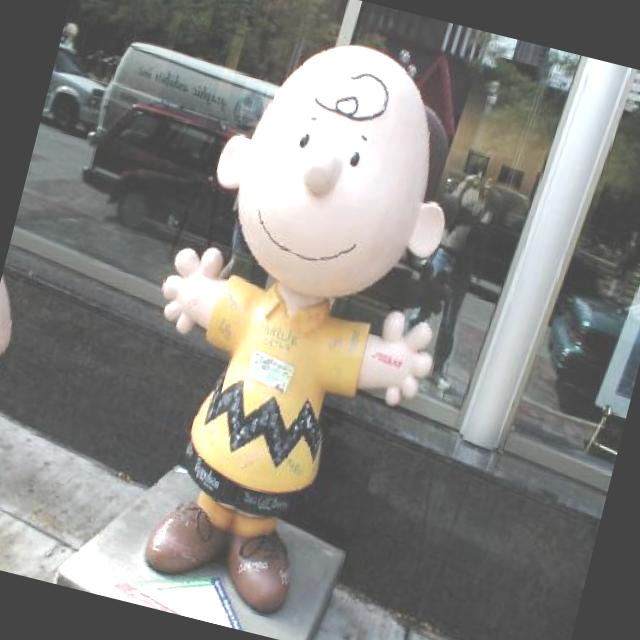Person: (90, 13, 501, 640), (0, 275, 25, 396)
